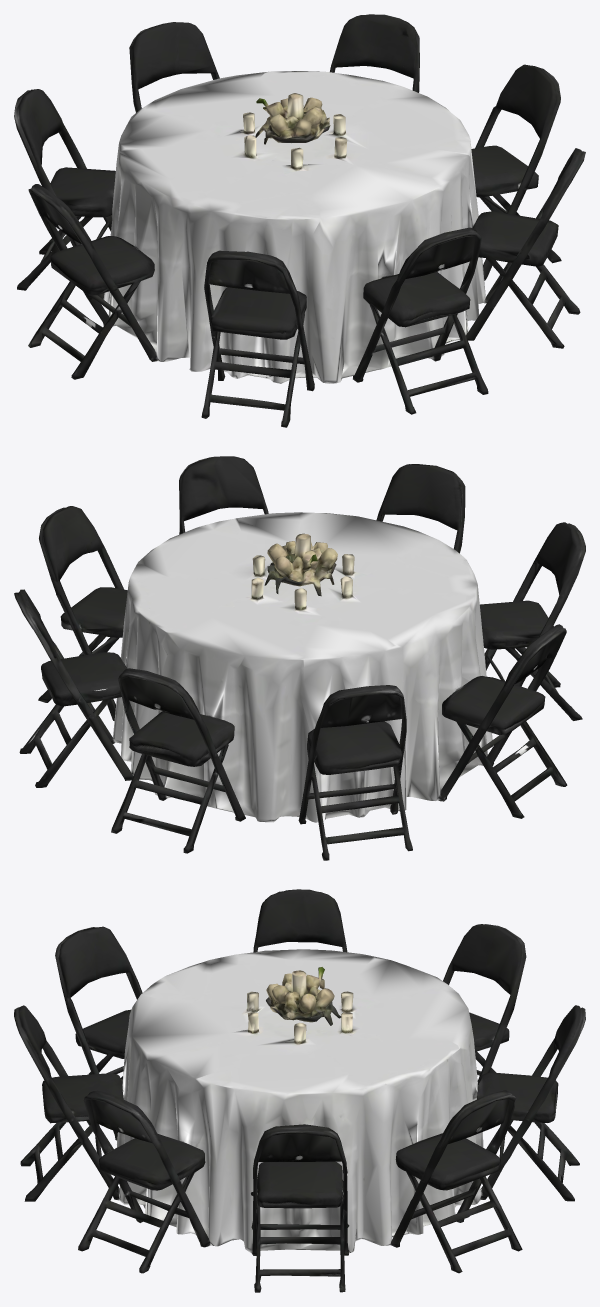
Rendered from table.glb.
3 renders of one model, top to bottom at view 1: azimuth 30°, elevation 25°; view 2: azimuth 150°, elevation 25°; view 3: azimuth 270°, elevation 25°, orthographic. The views are drawn at different scales.
Visible parts, largest first — view 1: tripo_node_40853b89-d142-464a-bd22-0b7a3ba5cd47; view 2: tripo_node_40853b89-d142-464a-bd22-0b7a3ba5cd47; view 3: tripo_node_40853b89-d142-464a-bd22-0b7a3ba5cd47.
Part boxes in pixels (x1=…): tripo_node_40853b89-d142-464a-bd22-0b7a3ba5cd47: x1=14, y1=14, x2=585, y2=427; tripo_node_40853b89-d142-464a-bd22-0b7a3ba5cd47: x1=14, y1=456, x2=585, y2=860; tripo_node_40853b89-d142-464a-bd22-0b7a3ba5cd47: x1=14, y1=889, x2=585, y2=1292.
Bounding box in the file's own units: 0.9994 × 0.3948 × 0.9981.
1 material, 1 textured.
